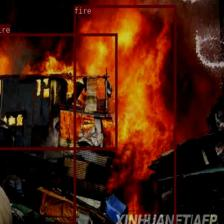fire: (74, 5, 176, 224), (0, 33, 117, 149)
